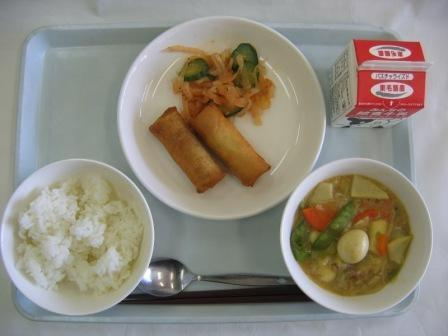Milk: (337, 30, 435, 135)
Rice: (2, 159, 151, 308)
Salad: (173, 41, 276, 110)
crepe w filling: (142, 110, 266, 190)
vegetable based cooked food: (289, 164, 430, 304)
